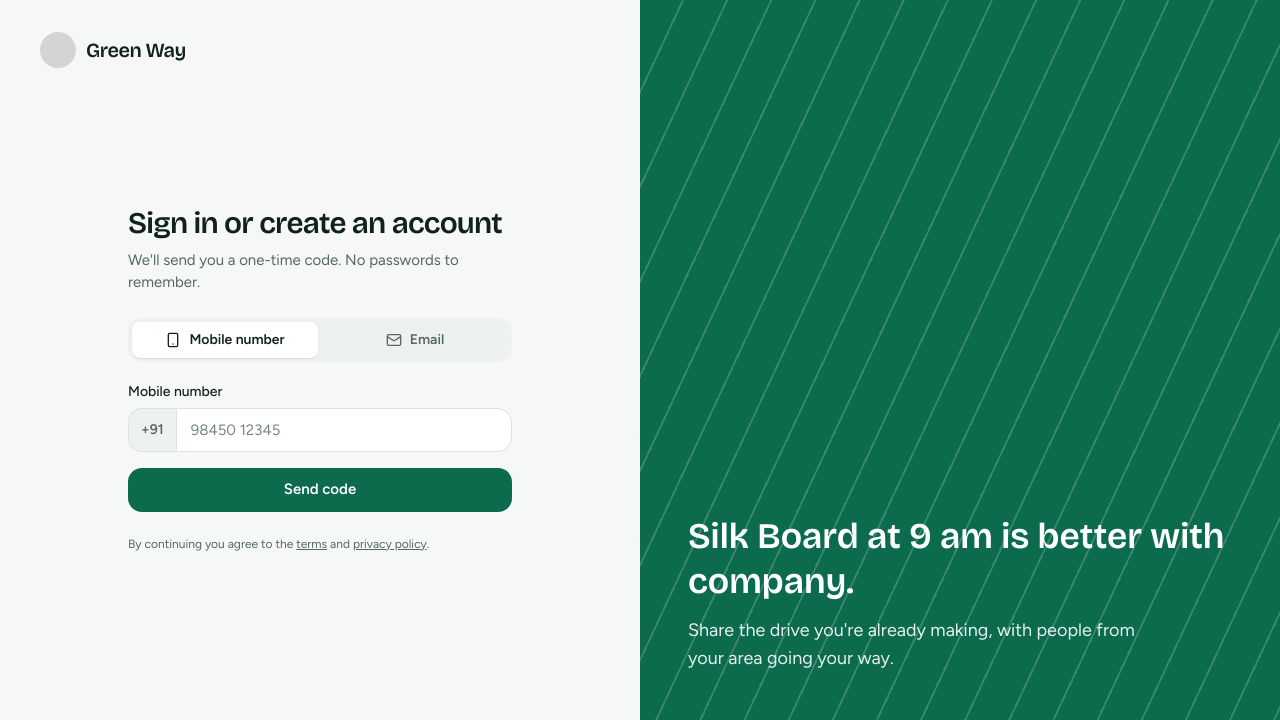
it: sign-in form › shows the server's message for a wrong code
The image size is (1280, 720).
Type "9845012345" into the field labelled "Mobile number".
click(344, 430); type("9845012345")  # box [176,408,512,452]
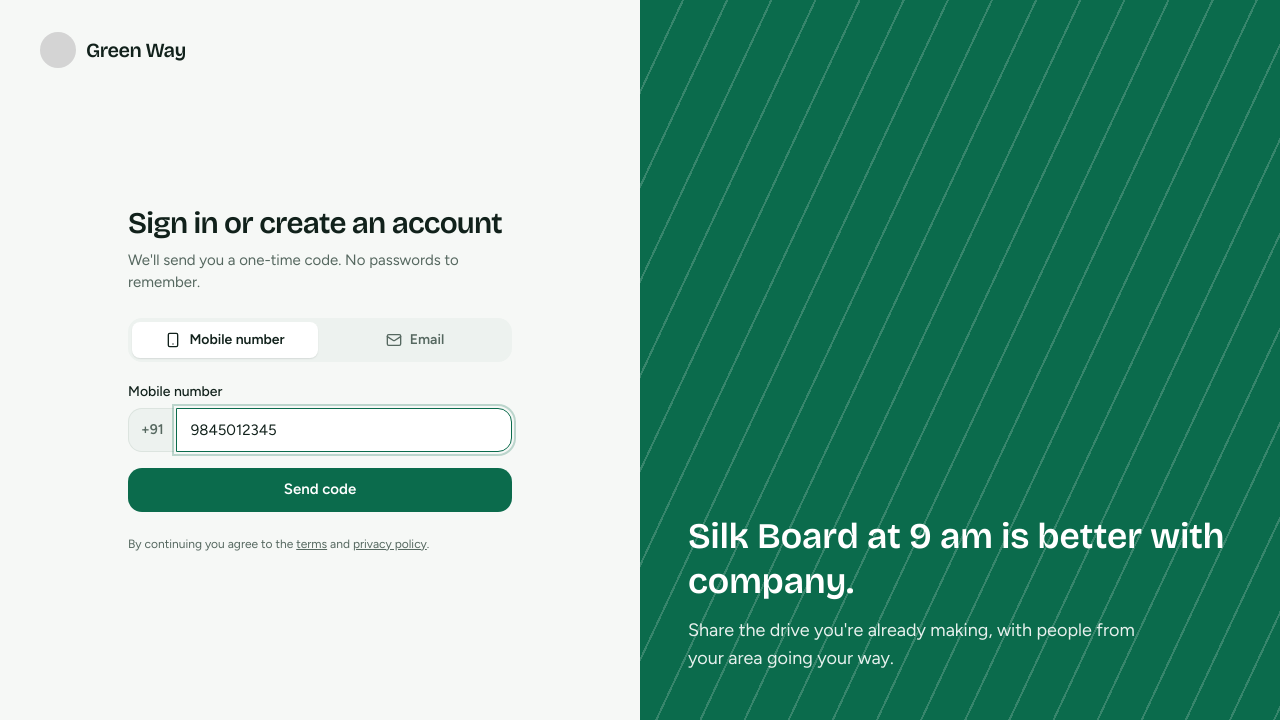
Click the button "Send code".
click(320, 490)  # box [128,468,512,512]
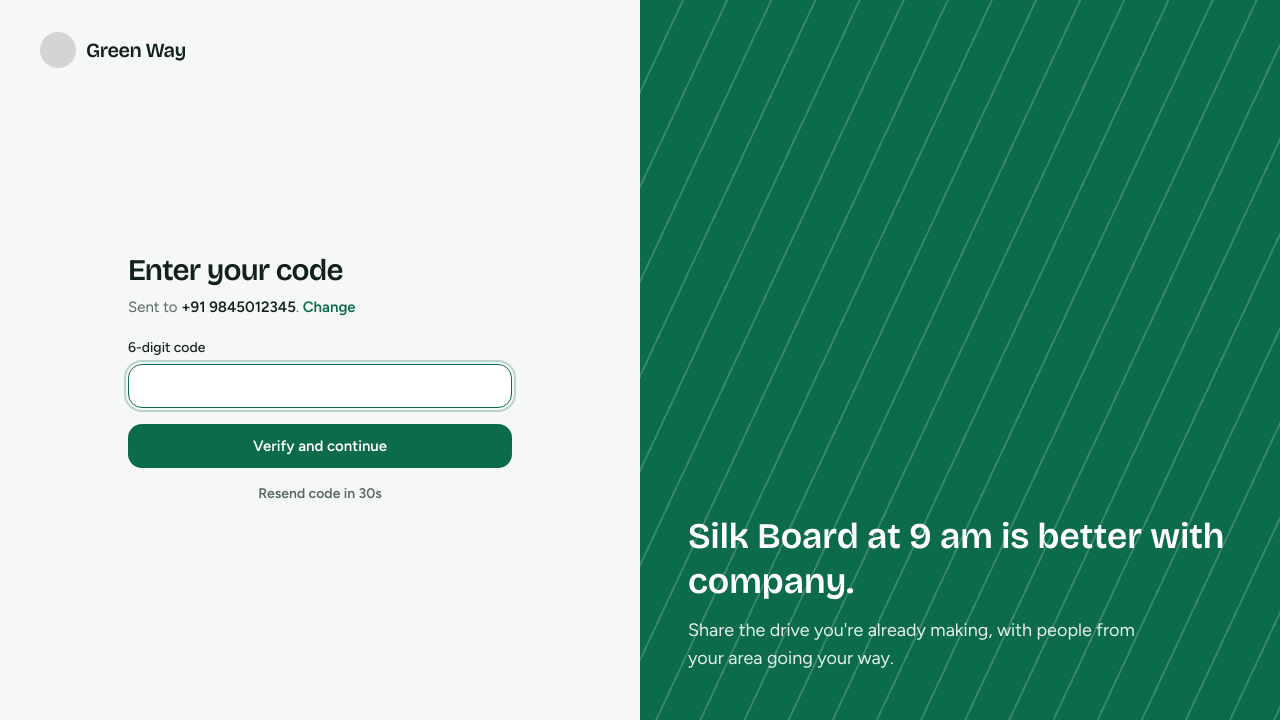
Type "000000" into the field labelled "6-digit code".
click(320, 386); type("000000")  # box [128,364,512,408]
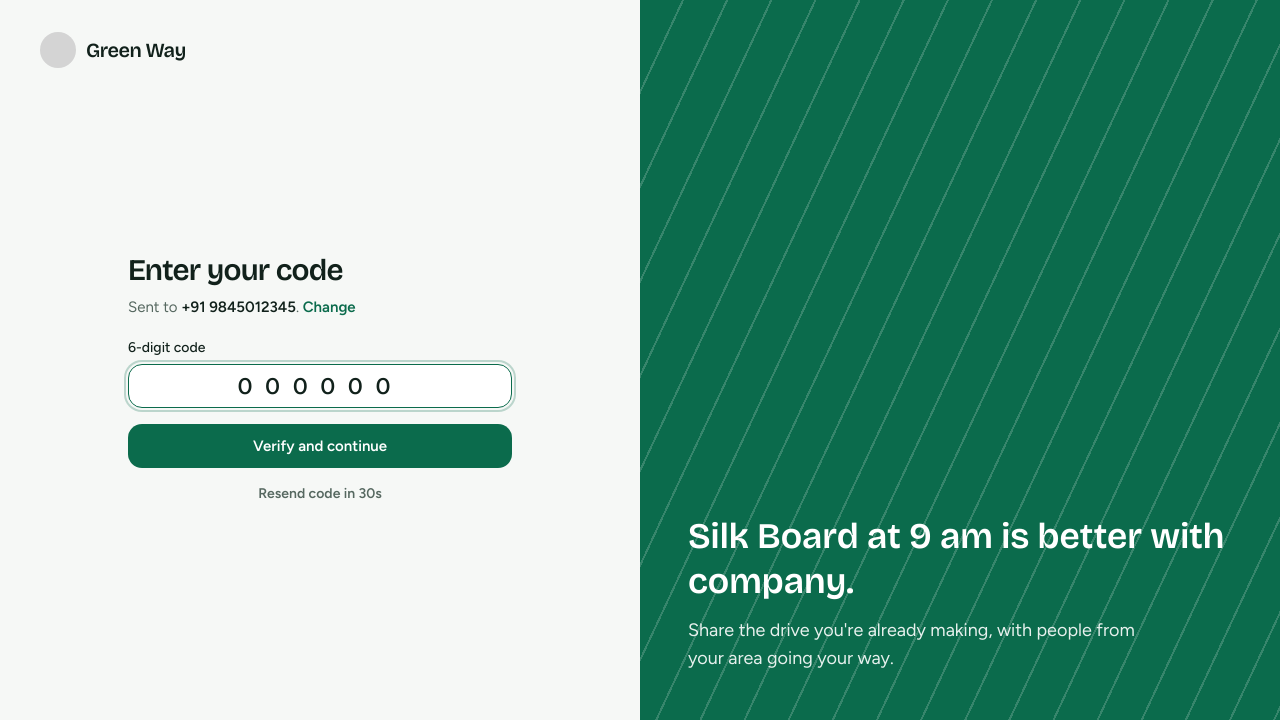
Click the button "Verify and continue".
click(320, 446)  # box [128,424,512,468]
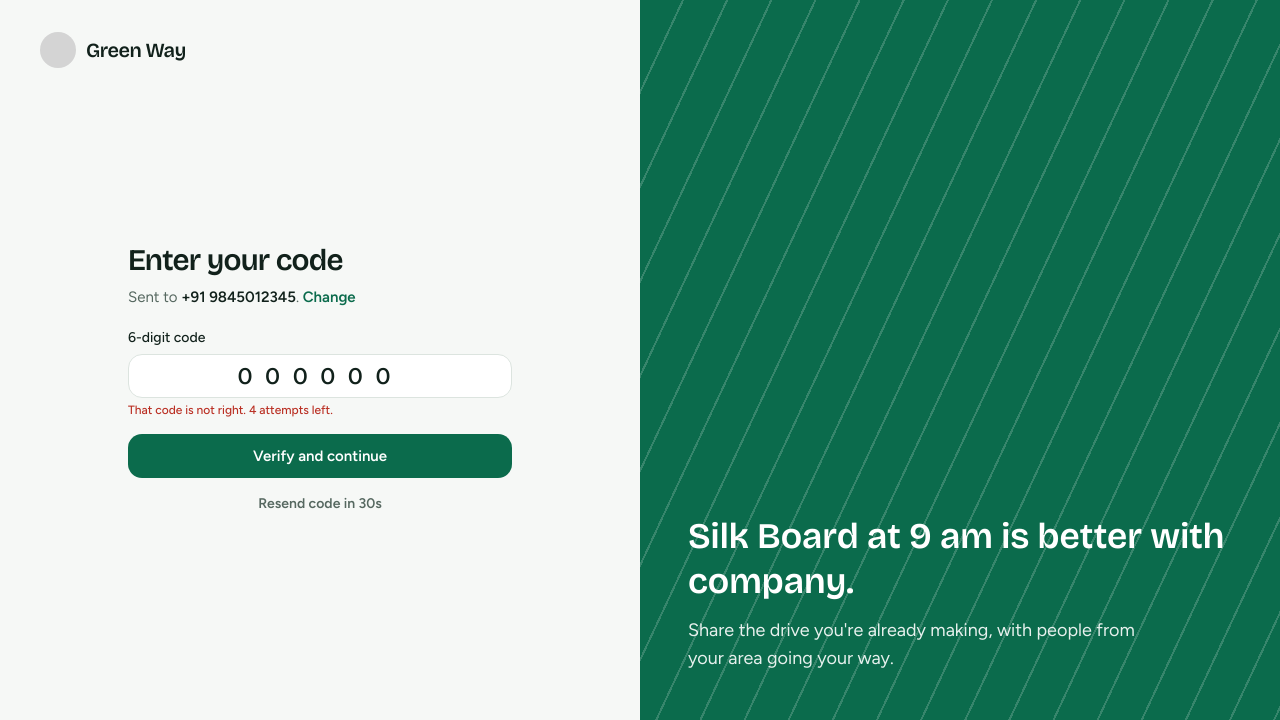
expect the text "That code is not right. 4 attempts left." is shown: met, box [128,403,333,417]
